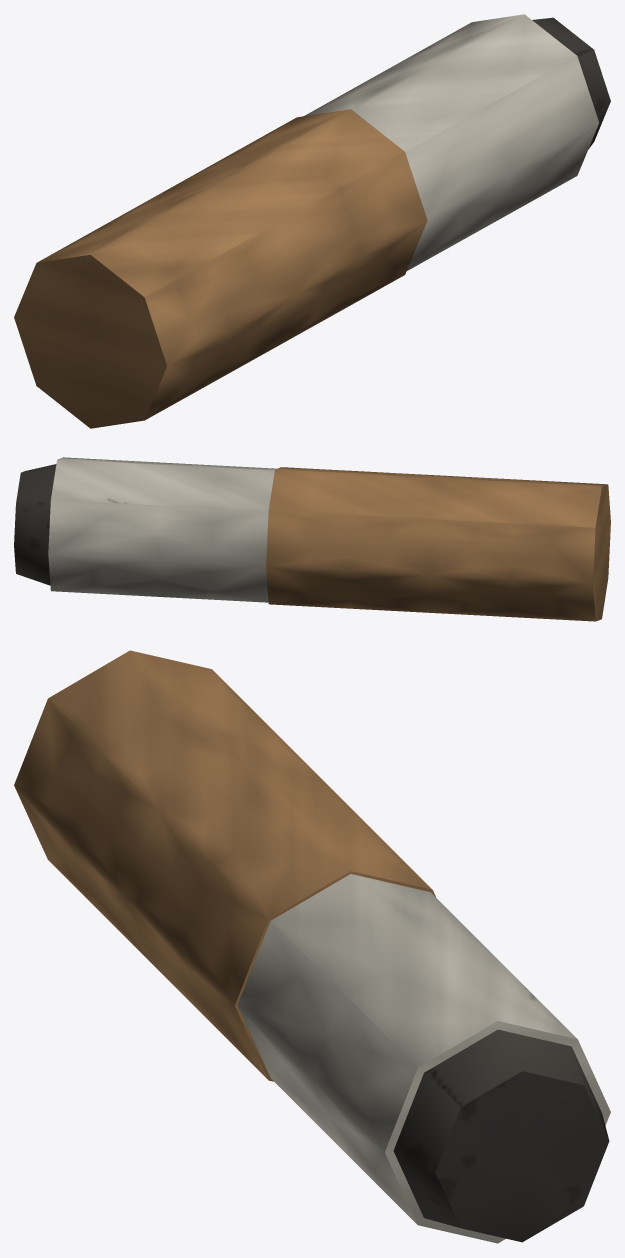
Rendered from cigarette_butt.glb.
The picture shows the model from 3 angles, top to bottom: view 1: azimuth 30°, elevation 25°; view 2: azimuth 150°, elevation 25°; view 3: azimuth 270°, elevation 25°; orthographic projection. The views are drawn at different scales.
Visible parts, largest first — view 1: group_0; view 2: group_0; view 3: group_0.
Part boxes in pixels (x1,y1,x2,y2): group_0: (14,14,610,428); group_0: (14,457,610,621); group_0: (14,650,610,1243).
Size of the model in its own units: 3.22 by 0.8 by 1.9.
3 materials, 3 textured.
